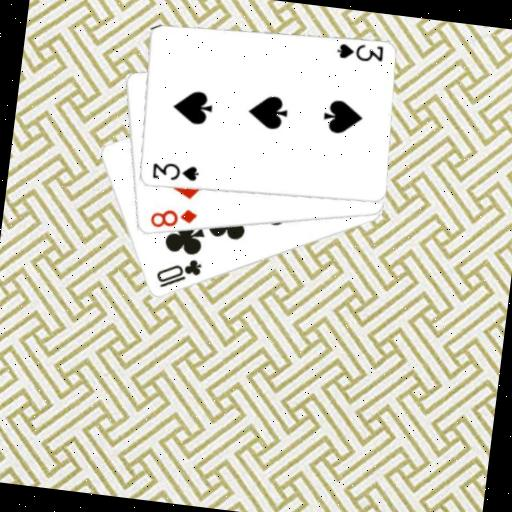10C: (152, 252, 205, 294)
3S: (148, 158, 201, 186), (333, 38, 386, 66)
8D: (146, 202, 200, 235)
